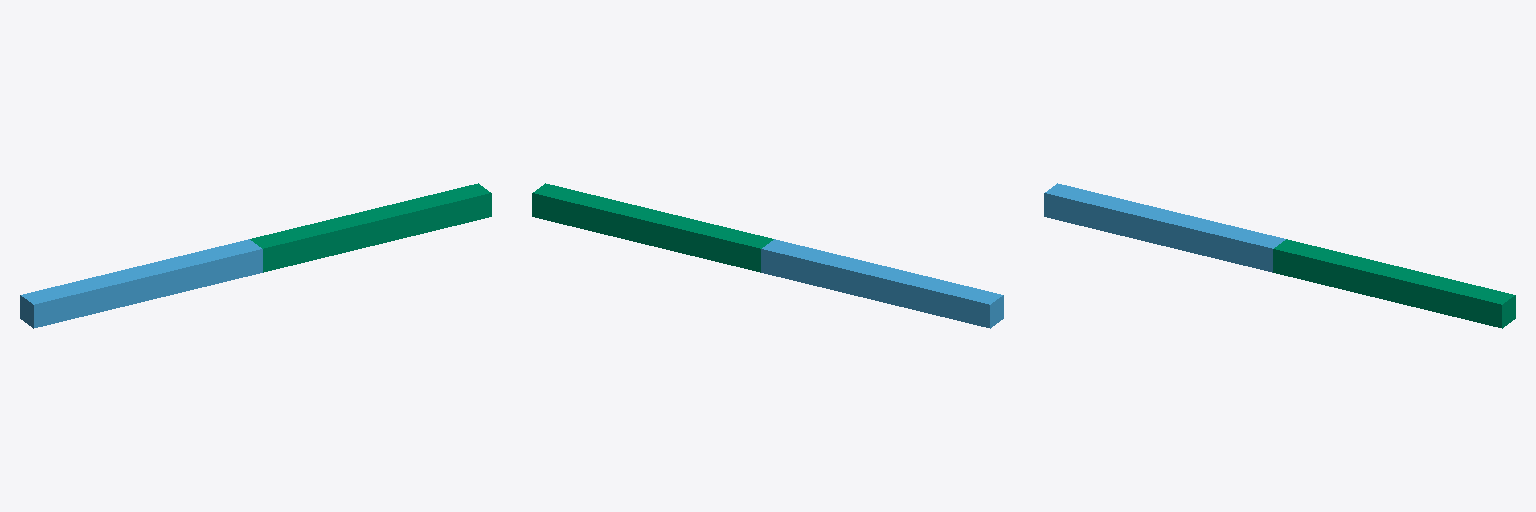
URDF robot description (two_dof_robot):
<!-- Simple 2-DOF robot arm for educational purposes -->
<robot name="two_dof_robot">

    <link name="base"/>

    <link name="upperarm">
        <visual>
            <geometry>
                <box size="1.0 0.1 0.1"/>
            </geometry>
            <origin rpy="0 0 0" xyz="0.5 0 0"/>
        </visual>
    </link>
    <joint name="joint1" type="revolute">
        <axis rpy="0 0 0" xyz="0 0 1"/>
        <parent link="base"/>
        <child link="upperarm"/>
        <limit lower="-3.14" upper="3.14" velocity="3.14" effort="1000" />
    </joint>

    <link name="forearm">
        <visual>
            <geometry>
                <box size="1.0 0.1 0.1"/>
            </geometry>
            <origin rpy="0 0 0" xyz="0.5 0 0"/>
        </visual>
    </link>
    <joint name="joint2" type="revolute">
        <axis rpy="0 0 0" xyz="0 0 1"/>
        <parent link="upperarm"/>
        <child link="forearm"/>
        <origin rpy="0 0 0" xyz="1 0 0"/>
        <limit lower="-3.14" upper="3.14" velocity="3.14" effort="1000" />
    </joint>

    <link name="ee" />
    <joint name="ee_joint" type="fixed">
        <parent link="forearm"/>
        <child link="ee"/>
        <origin rpy="0 0 0" xyz="1 0 0"/>
    </joint>

</robot>

--- What the picture shows (computed from the rendered views, not written in the file) ---
3 views of the same robot in one strip: view 1: azimuth 30°, elevation 25°; view 2: azimuth 150°, elevation 25°; view 3: azimuth 330°, elevation 25° (orthographic).
Robot: two_dof_robot — 4 links, 3 joints (2 revolute, 1 fixed); root link base; default pose: every joint at zero.
Links seen in each view (by area): view 1: upperarm, forearm; view 2: upperarm, forearm; view 3: forearm, upperarm.
Link boxes in pixels (x1,y1,x2,y2): upperarm: [20, 239, 262, 328]; forearm: [250, 183, 491, 272]; upperarm: [761, 239, 1003, 328]; forearm: [532, 183, 773, 272]; forearm: [1273, 239, 1515, 328]; upperarm: [1044, 183, 1285, 272].
Bounding box of the posed robot: 2 × 0.1 × 0.1 m (x, y, z).
Geometry: primitives only (box / cylinder / sphere), no mesh files.